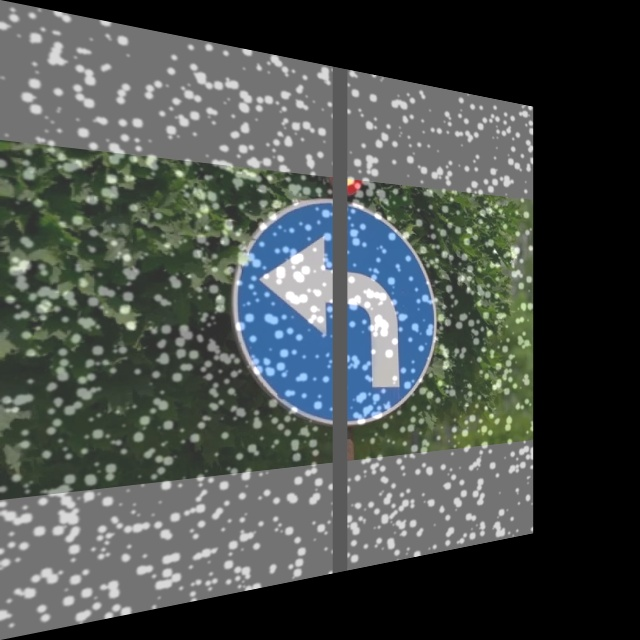Compulsory_Turn_Left_Ahead: (230, 189, 435, 431)
